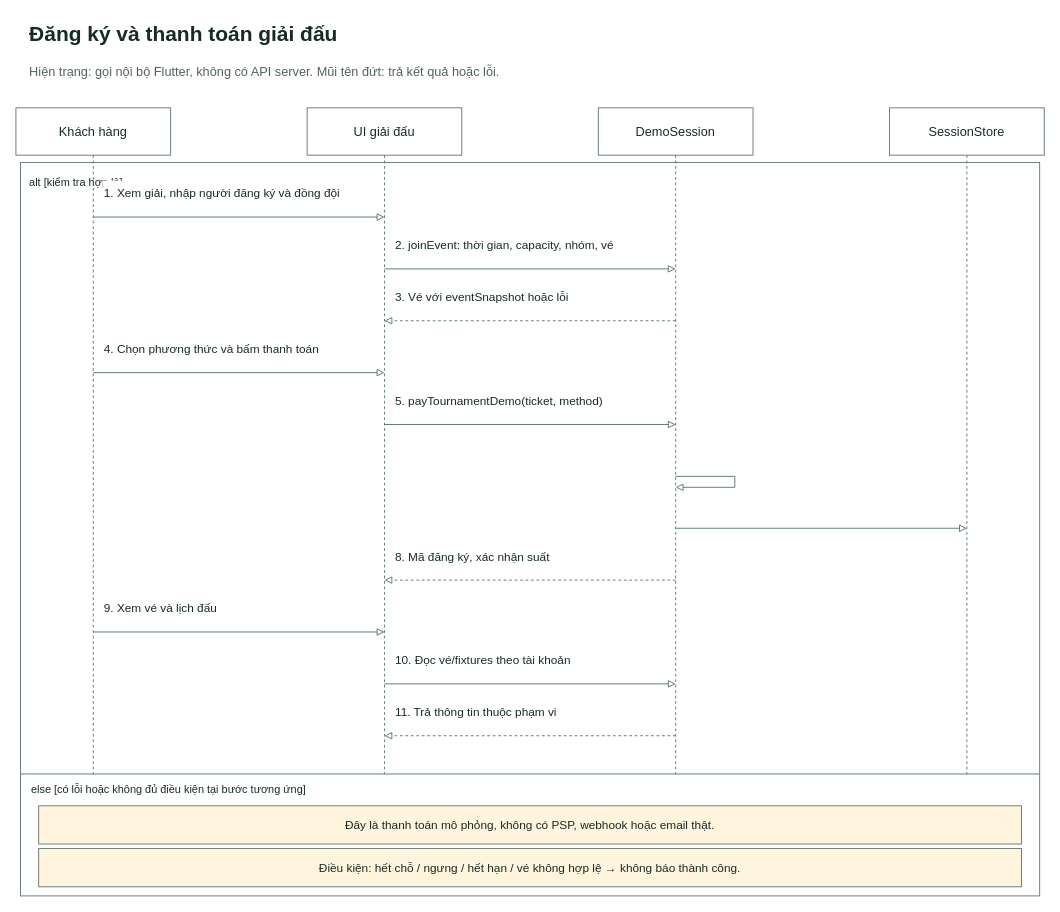
Image size: 1060x912. Some labels were removed from this diagram. The centre of each missing label's shape, as x and y in pixels:
"6. Ghi approved; simulatedGateway=true" goes at point 704,457.
"7. Lưu vé, thanh toán và trạng thái" goes at point 820,508.
